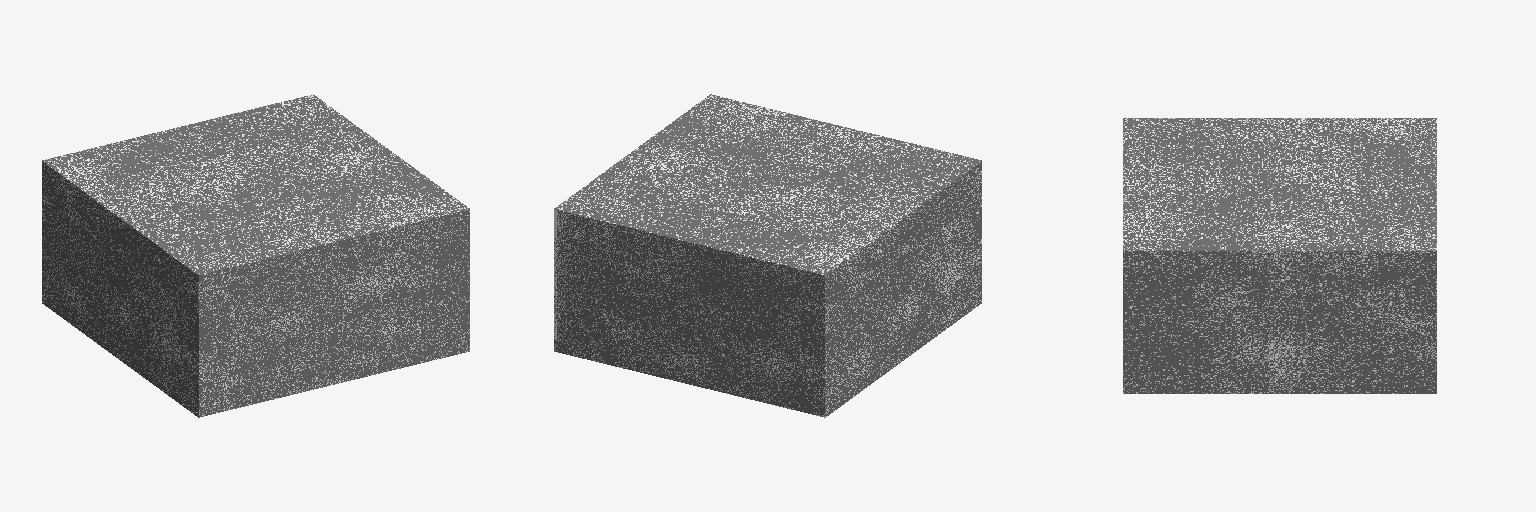
3 views of the same model, side by side, from view 1: azimuth 30°, elevation 25°; view 2: azimuth 150°, elevation 25°; view 3: azimuth 270°, elevation 25° (orthographic).
Parts seen in each view (by area): view 1: Naroznik.NR2_Cube.007; view 2: Naroznik.NR2_Cube.007; view 3: Naroznik.NR2_Cube.007.
Boxes of the visible parts, box(x1,y1,x2,y2) form: Naroznik.NR2_Cube.007: box(42, 94, 469, 417); Naroznik.NR2_Cube.007: box(554, 94, 981, 417); Naroznik.NR2_Cube.007: box(1123, 118, 1436, 393).
Size of the model in its own units: 1 by 0.5 by 1.
1 materials, 1 textured.